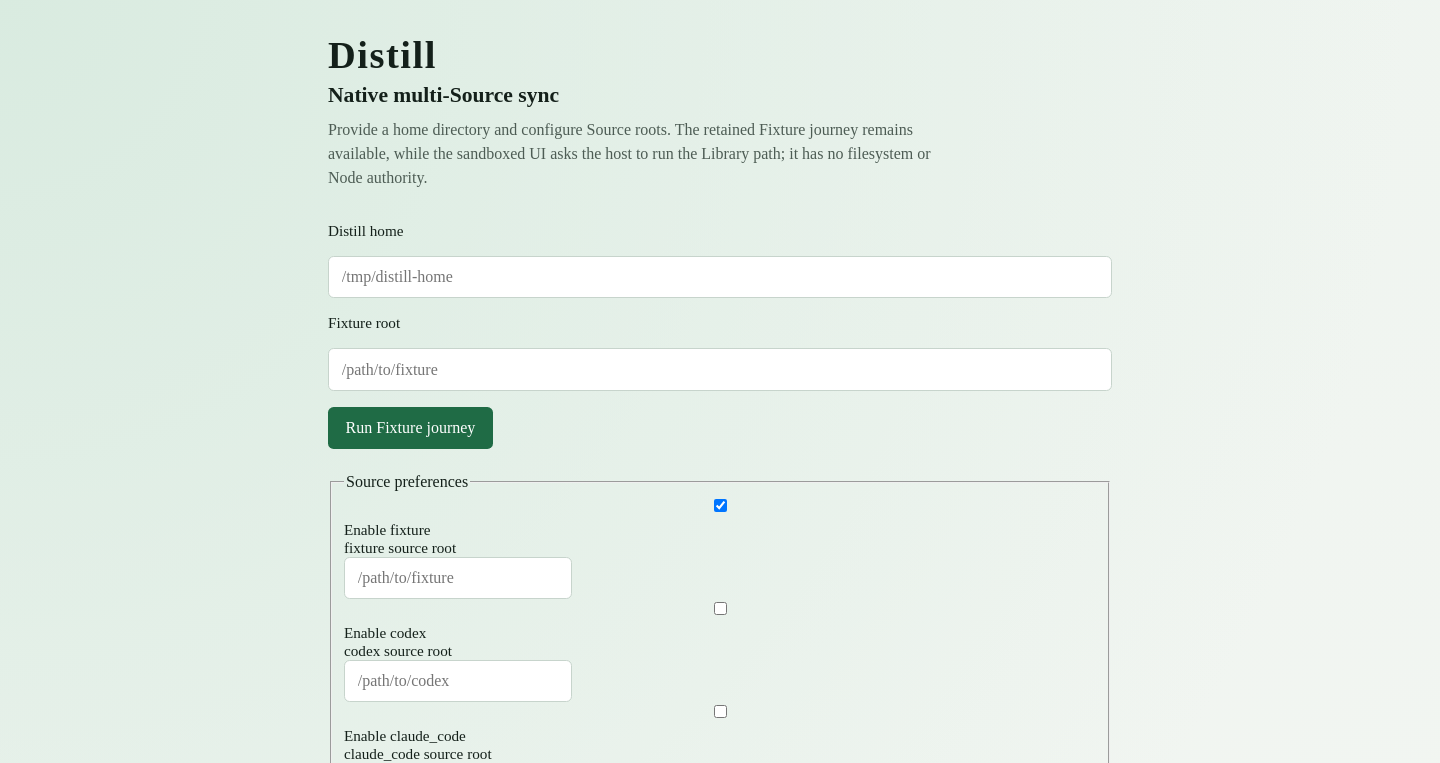
Test case: first-run Fixture UI › renders idle input and success source/sync/session/health panels
Type "/tmp/home" into the field labelled "Distill home".
click(720, 277); type("/tmp/home")  # box [328, 256, 1112, 298]
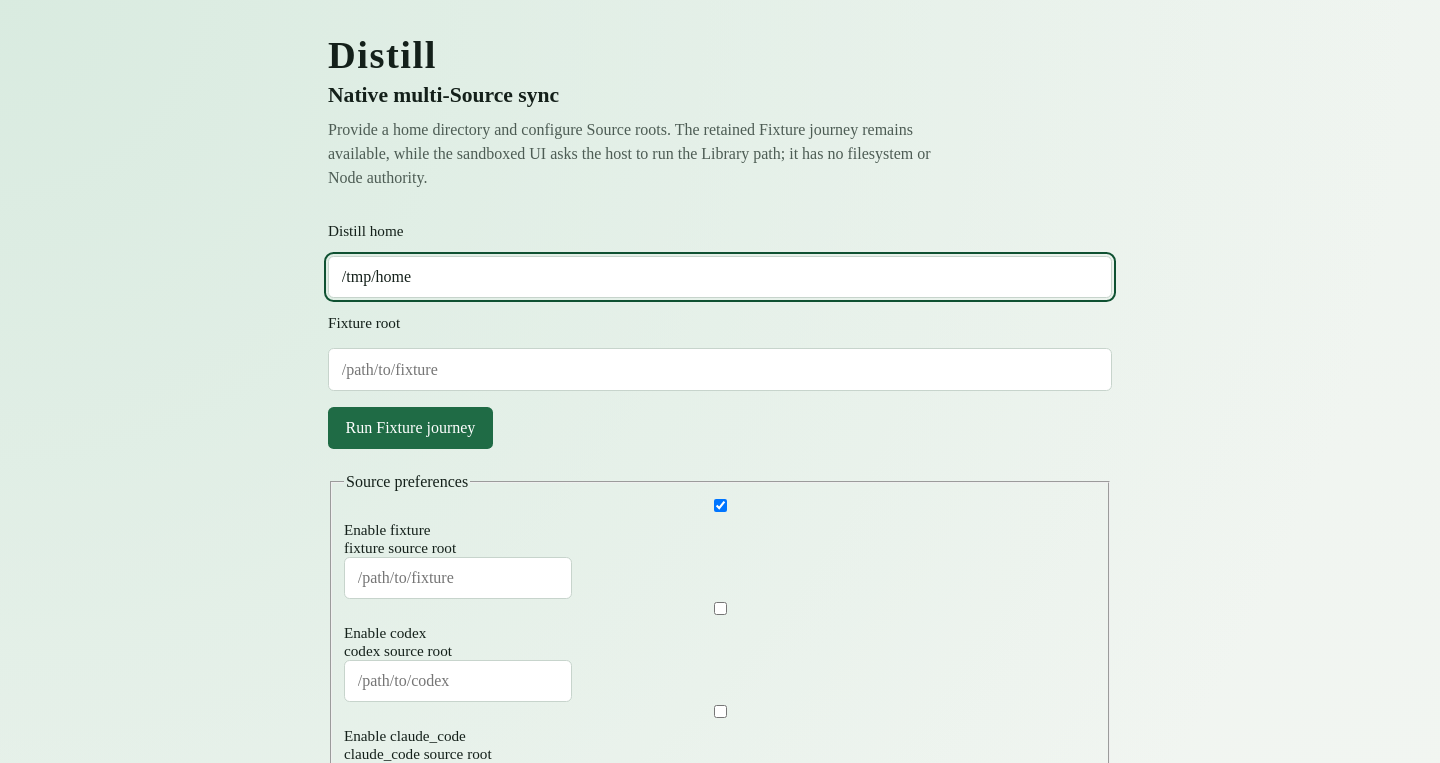
Type "/tmp/fixture" into the field labelled "Fixture root".
click(720, 370); type("/tmp/fixture")  # box [328, 348, 1112, 391]
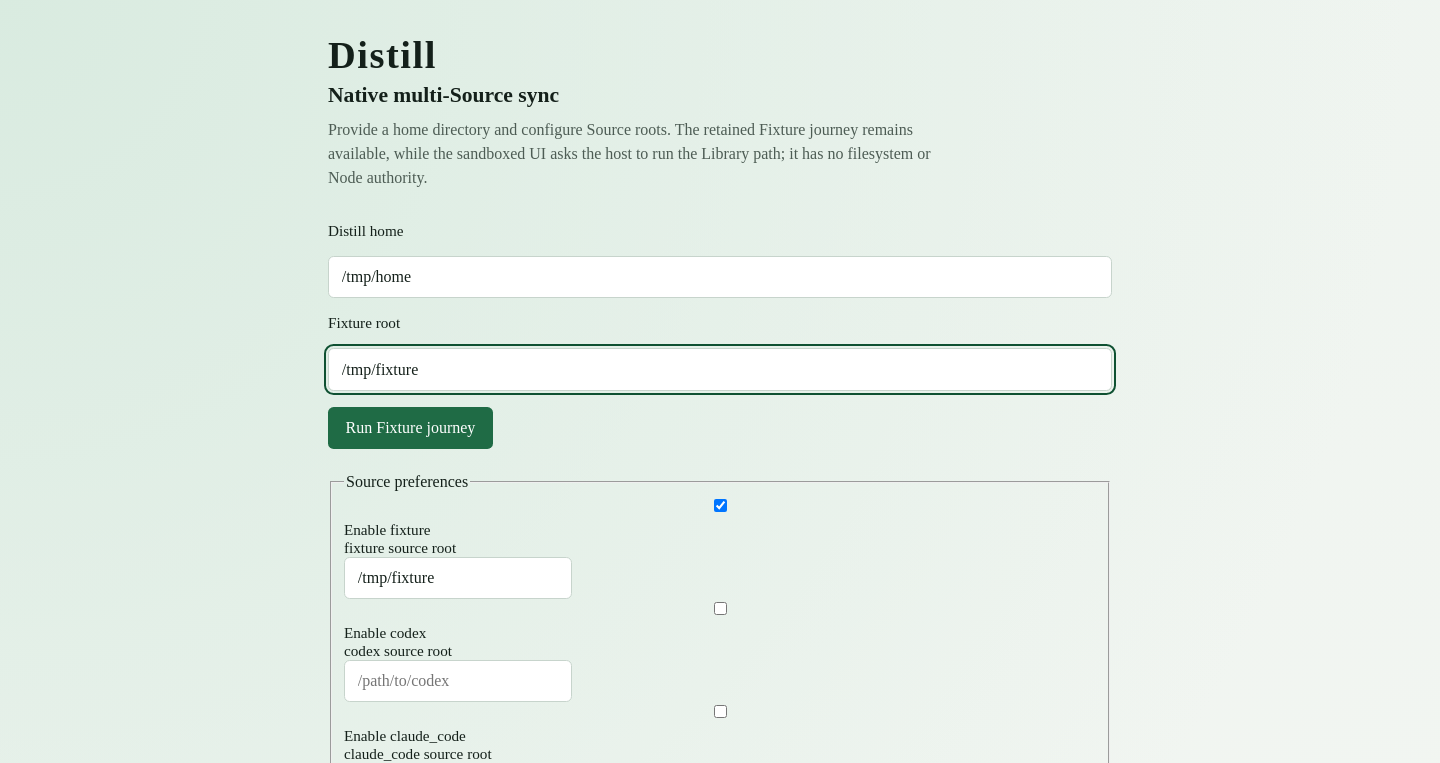
Click the button "Run Fixture journey".
click(410, 428)  # box [328, 407, 493, 449]
(page scrolled)
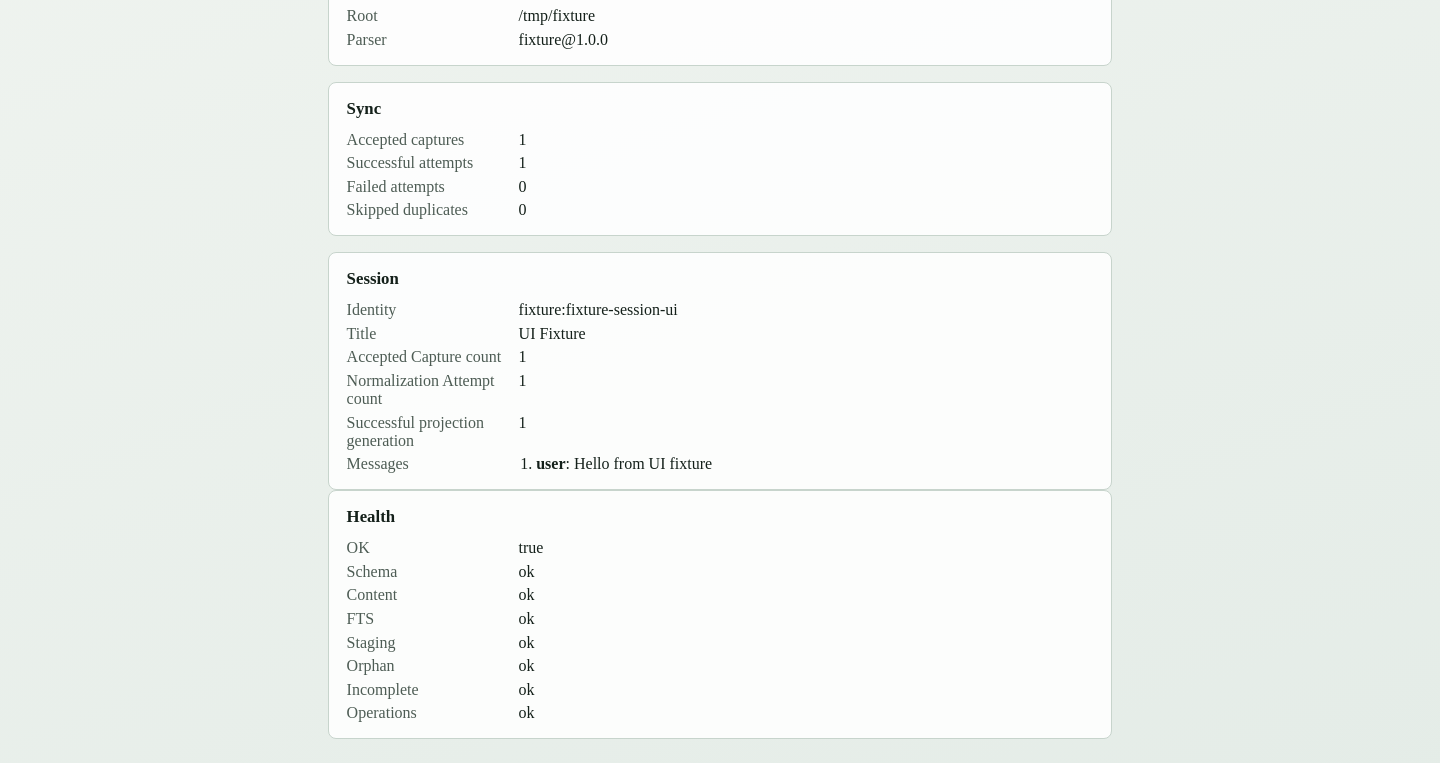
Check: the element with test id "sync-panel" shows "Accepted captures", box [347, 130, 464, 148]
Check: the element with test id "sync-panel" shows "1", box [519, 130, 527, 148]
Check: the element with test id "session-panel" shows "fixture:fixture-session-ui", box [328, 252, 1112, 490]
